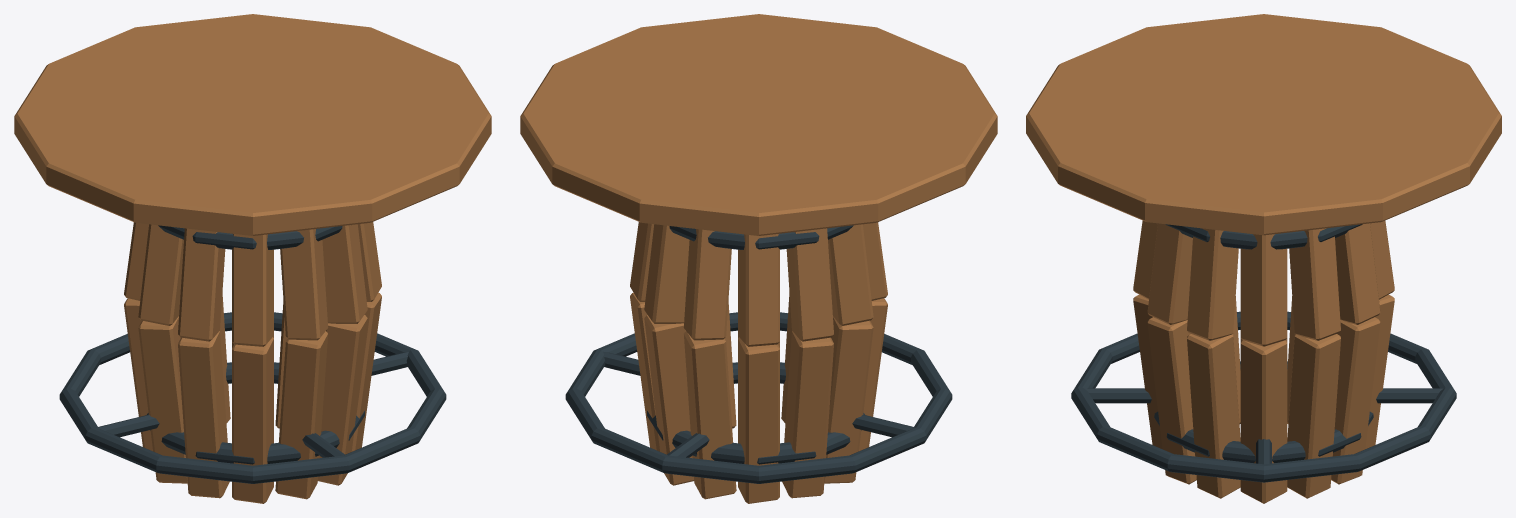
The model's file is b01_standing_barrel_community_table.glb.
3 views of the same model, side by side, from view 1: azimuth 30°, elevation 25°; view 2: azimuth 150°, elevation 25°; view 3: azimuth 270°, elevation 25° (orthographic).
Visible parts, largest first — view 1: b01_standing_barrel_community_table; view 2: b01_standing_barrel_community_table; view 3: b01_standing_barrel_community_table.
Part boxes in pixels (x1,y1,x2,y2): b01_standing_barrel_community_table: (14,14,491,503); b01_standing_barrel_community_table: (520,14,997,503); b01_standing_barrel_community_table: (1026,14,1501,503).
Bounding box in the file's own units: 1.32 × 1.06 × 1.32.
